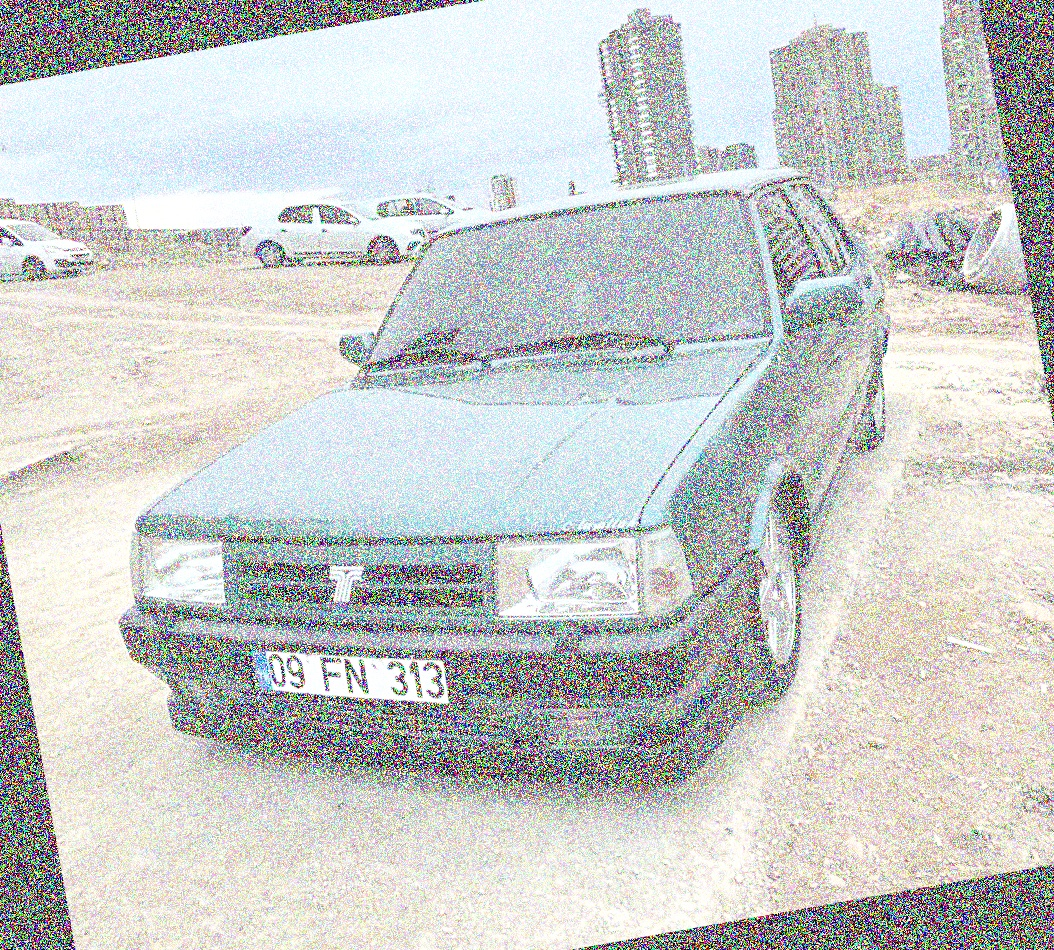plaka: (266, 634, 453, 714)
